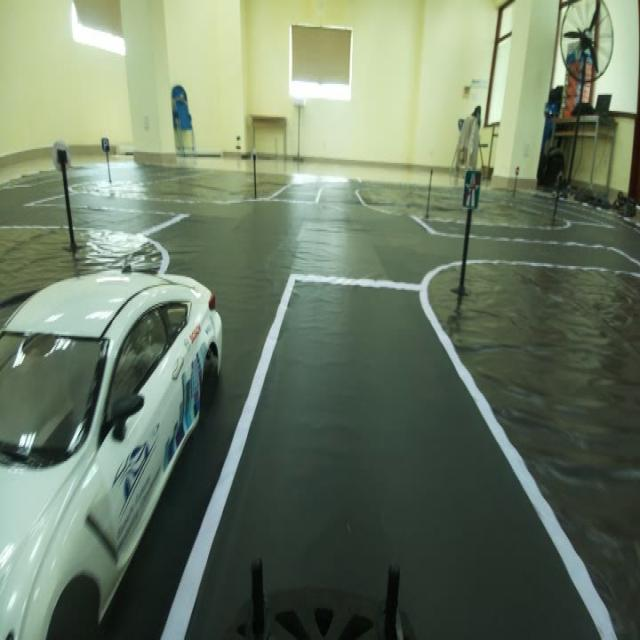car: (5, 233, 193, 630)
highway_exit: (460, 152, 490, 225)
